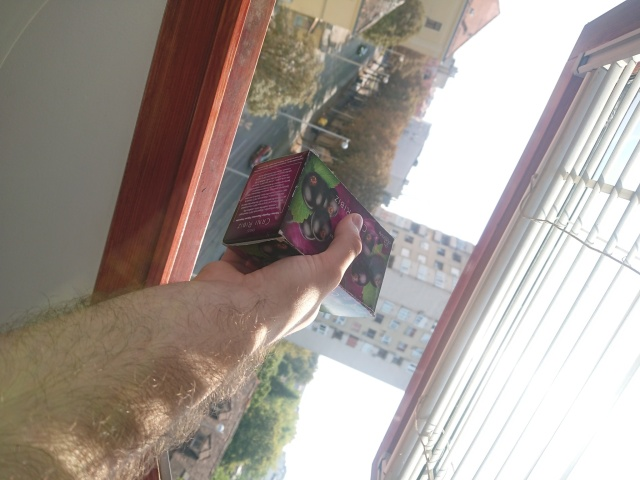Franck Black Currant Tea 60g: (219, 148, 397, 321)
